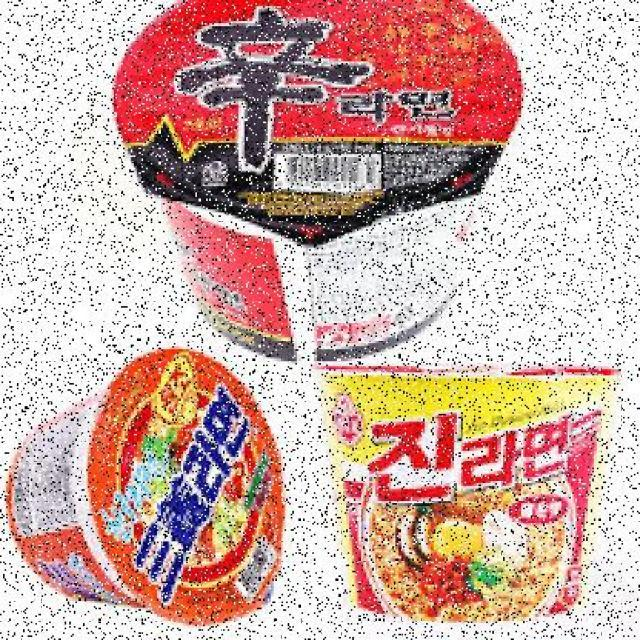Miscellaneous: (121, 0, 504, 363), (313, 358, 624, 627), (8, 346, 296, 619)
